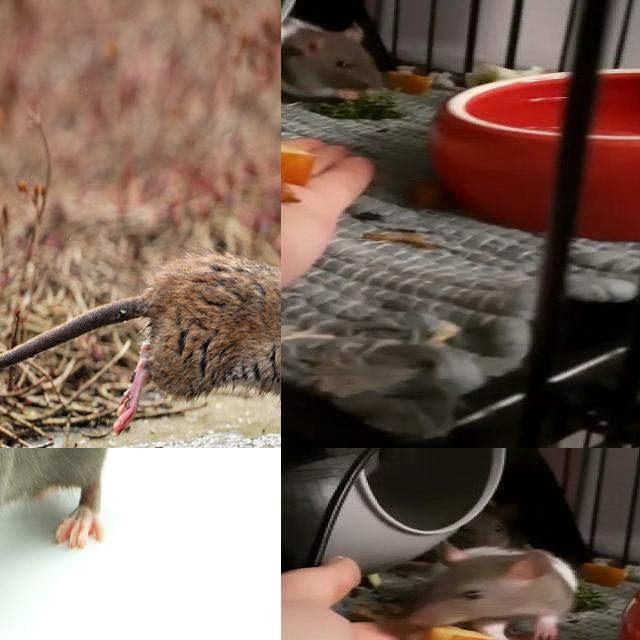rat: (0, 448, 139, 640), (149, 252, 281, 448), (410, 544, 580, 640), (281, 15, 384, 106), (440, 506, 516, 556)
